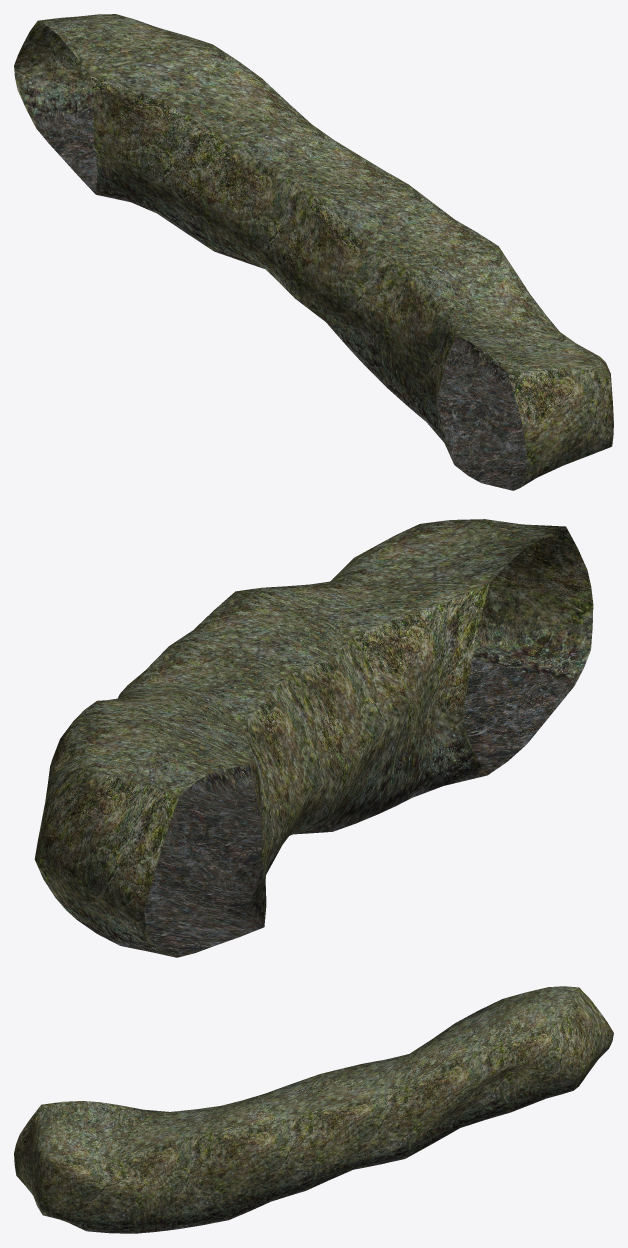
Rendered from thm_all_cave_s02_damprock_mirror_r6_mesh_r6.fbx.
The picture shows the model from 3 angles, top to bottom: view 1: azimuth 30°, elevation 25°; view 2: azimuth 150°, elevation 25°; view 3: azimuth 270°, elevation 25°; orthographic projection. The views are drawn at different scales.
Visible parts, largest first — view 1: mesh_node; view 2: mesh_node; view 3: mesh_node.
Part boxes in pixels (x1=…): mesh_node: x1=14, y1=14, x2=613, y2=490; mesh_node: x1=34, y1=519, x2=593, y2=957; mesh_node: x1=14, y1=986, x2=613, y2=1233.
Bounding box in the file's own units: 21.61 × 21.57 × 65.39.
